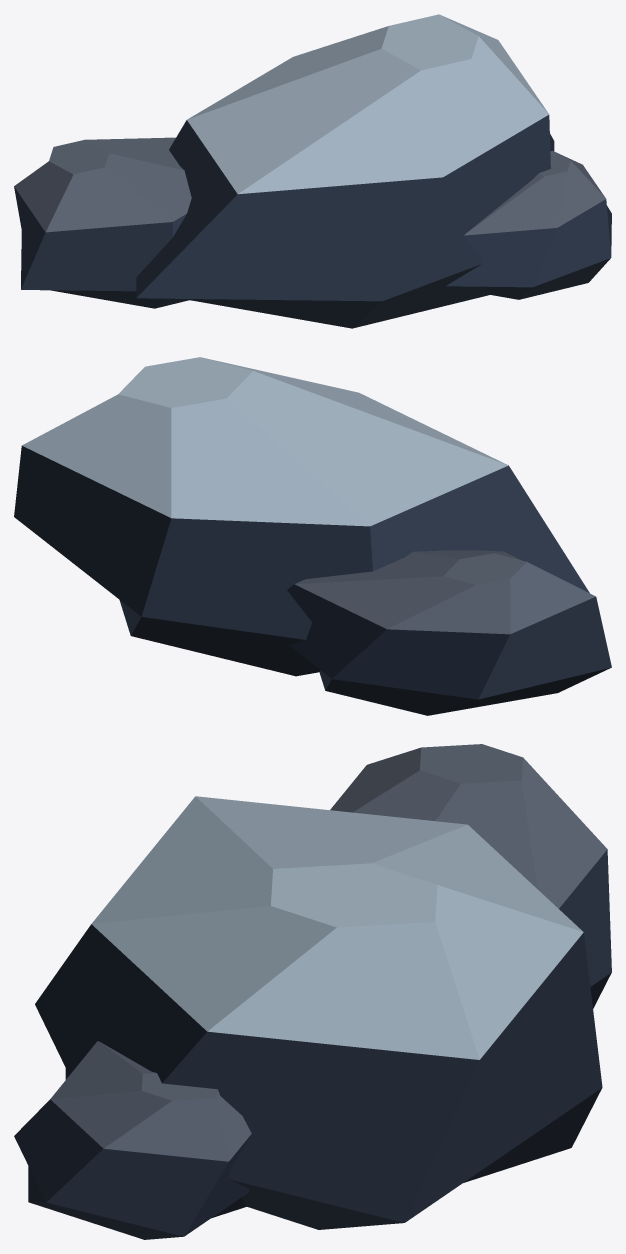
Rendered from reclaimed-metal.glb.
3 renders of one model, top to bottom at view 1: azimuth 30°, elevation 25°; view 2: azimuth 150°, elevation 25°; view 3: azimuth 270°, elevation 25°, orthographic. The views are drawn at different scales.
Visible parts, largest first — view 1: reclaimed-metal; view 2: reclaimed-metal; view 3: reclaimed-metal.
Boxes of the visible parts, x1,y1,x2,y2 form: reclaimed-metal: (14, 14, 611, 328); reclaimed-metal: (14, 357, 611, 715); reclaimed-metal: (14, 744, 611, 1239).
Bounding box in the file's own units: 0.8076 × 0.25 × 0.5056.
